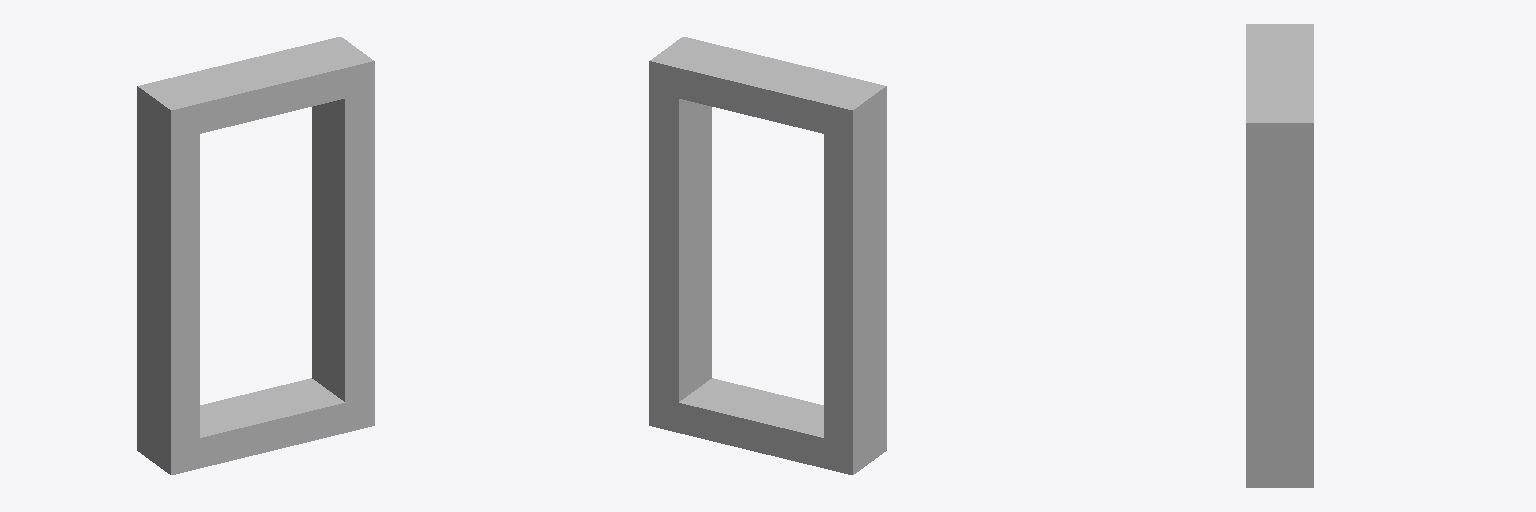
Rendered from doorframe_0.obj.
3 views of the same model, side by side, from view 1: azimuth 30°, elevation 25°; view 2: azimuth 150°, elevation 25°; view 3: azimuth 270°, elevation 25° (orthographic).
Parts seen in each view (by area): view 1: doorframe.001; view 2: doorframe.001; view 3: doorframe.001.
Part boxes in pixels (x1,y1,x2,y2): doorframe.001: (137,37,374,474); doorframe.001: (649,37,886,474); doorframe.001: (1246,24,1313,487).
Size of the model in its own units: 2.8 by 4.8 by 0.8.